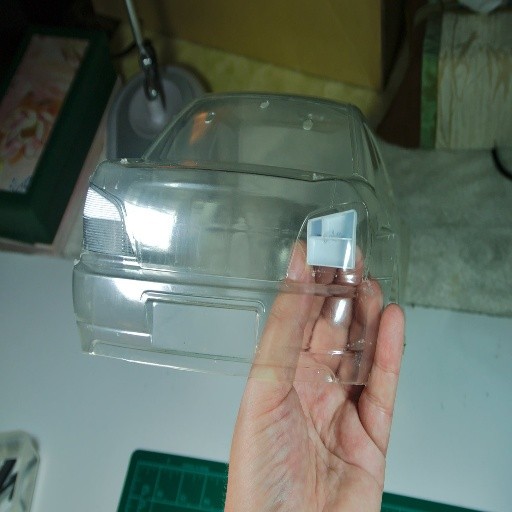hand: (227, 238, 416, 512)
